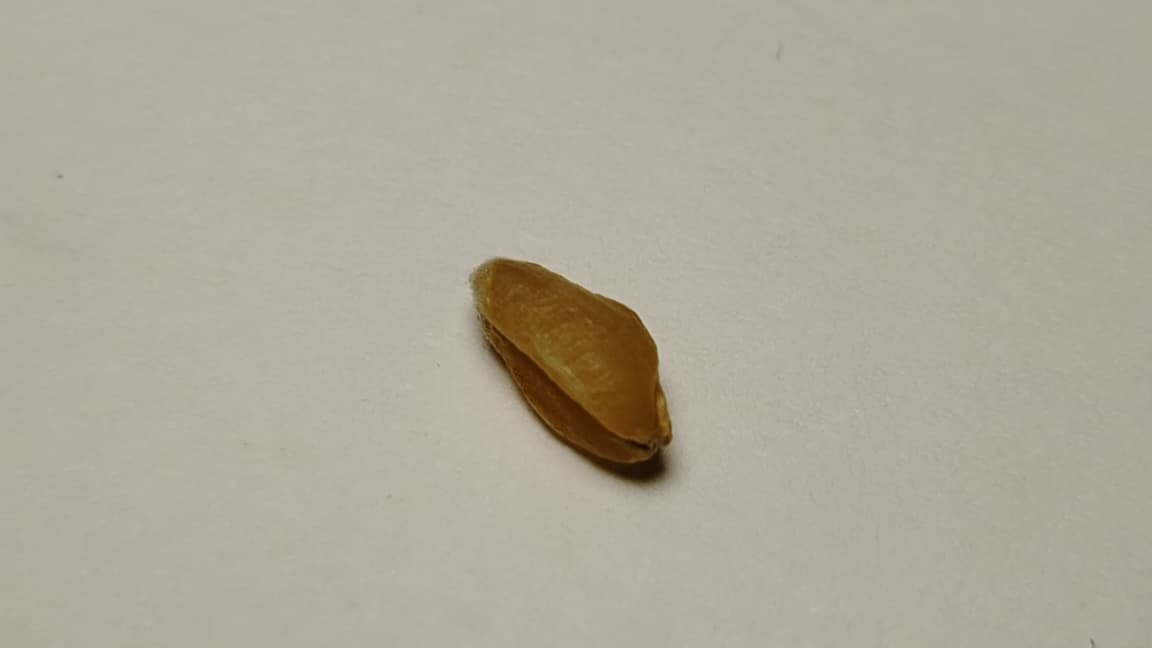healthy: (470, 257, 670, 463)
